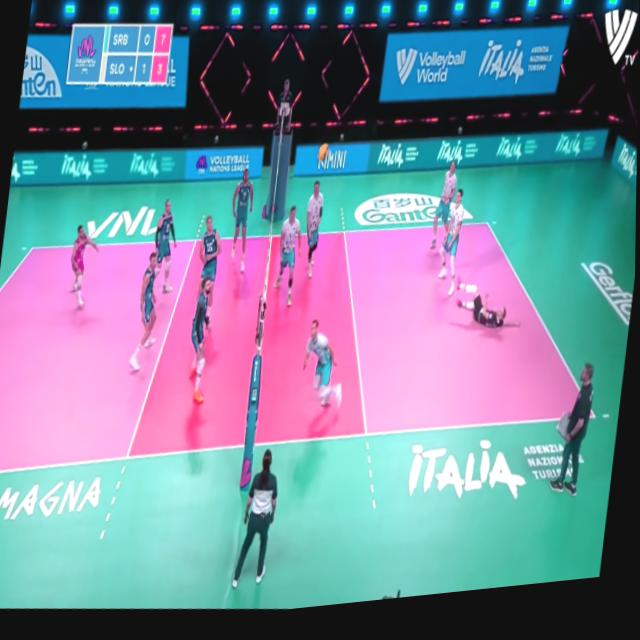player: (451, 275, 530, 355), (294, 320, 357, 420), (180, 281, 223, 415), (129, 244, 171, 375), (58, 217, 105, 322), (224, 168, 263, 281), (437, 194, 472, 305), (148, 196, 186, 298), (275, 203, 308, 313), (299, 181, 331, 292), (194, 215, 227, 314), (435, 165, 457, 265)
